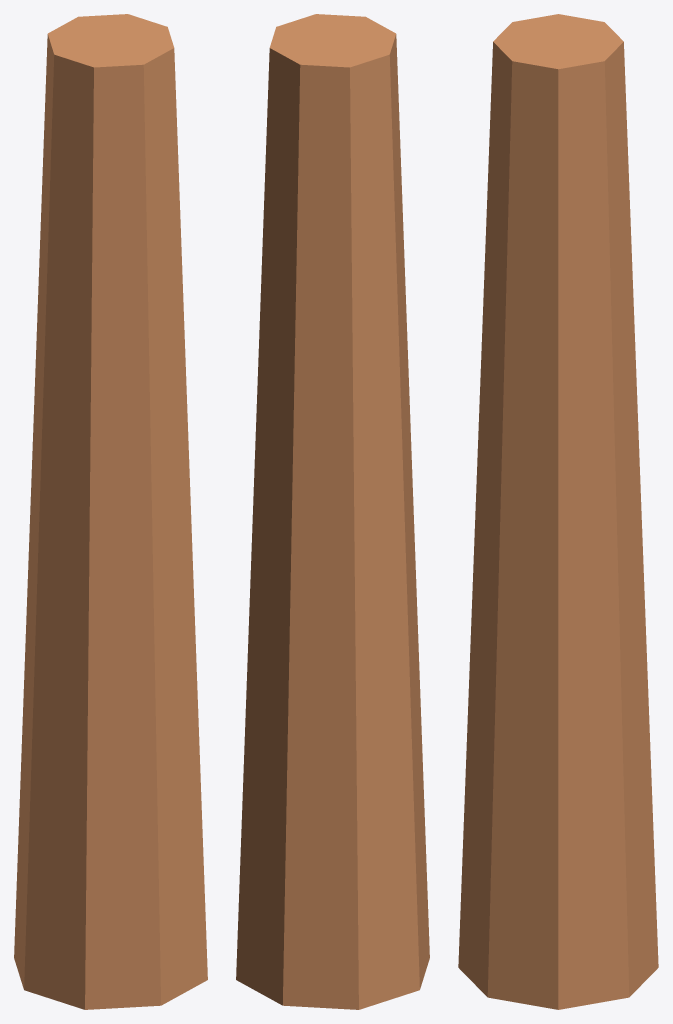
The model's file is wk_soft_tissue_upper_arm_v01.glb.
3 views of the same model, side by side, from view 1: azimuth 30°, elevation 25°; view 2: azimuth 150°, elevation 25°; view 3: azimuth 270°, elevation 25° (orthographic).
Visible parts, largest first — view 1: GEO_SoftTissue_upper_arm; view 2: GEO_SoftTissue_upper_arm; view 3: GEO_SoftTissue_upper_arm.
Boxes of the visible parts, bbox=[...] form: GEO_SoftTissue_upper_arm: bbox=[14, 14, 207, 1009]; GEO_SoftTissue_upper_arm: bbox=[236, 14, 429, 1009]; GEO_SoftTissue_upper_arm: bbox=[458, 14, 658, 1009].
Size of the model in its own units: 0.196 by 1 by 0.196.
